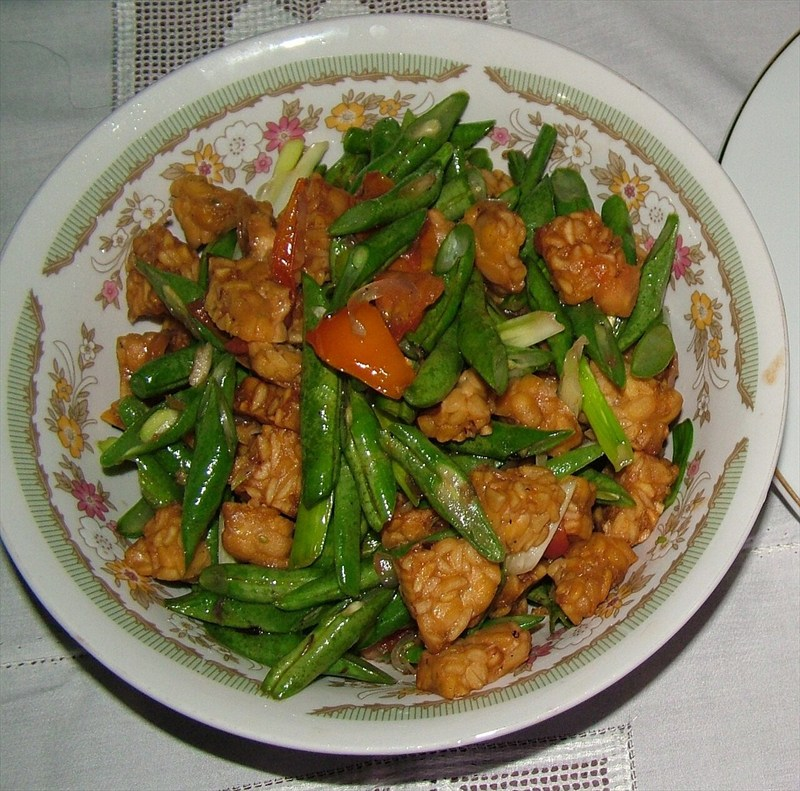Tempe Goreng: (122, 137, 668, 680)
